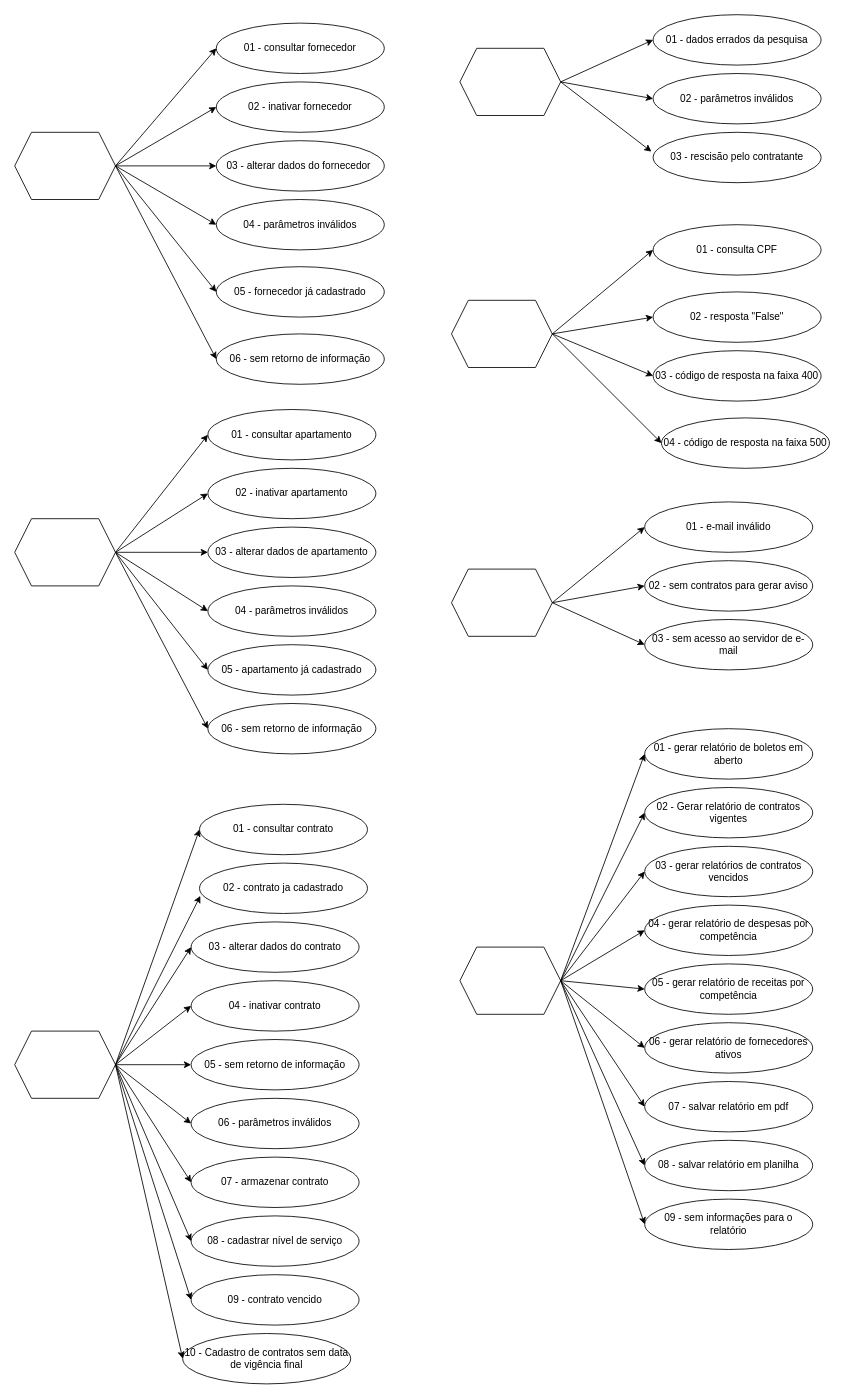
This 844x1399 diagram has some shape labels left out. The box of each missing label's shape, as (x1, y1, x2, y2) in pixels:
UCS09 - manter fornecedores: (14, 131, 116, 200)
UCS10 - manter apartamentos: (14, 518, 116, 586)
UCS11 - manter contrato: (14, 1030, 116, 1098)
UCS12 - rescindir contrato: (459, 47, 561, 116)
UCS13 - autenticar CPF e CNPJ (API): (451, 299, 552, 368)
UCS14 - notificar término de contrato: (451, 568, 552, 636)
UCS15 - Gerir relatórios: (459, 946, 561, 1014)
